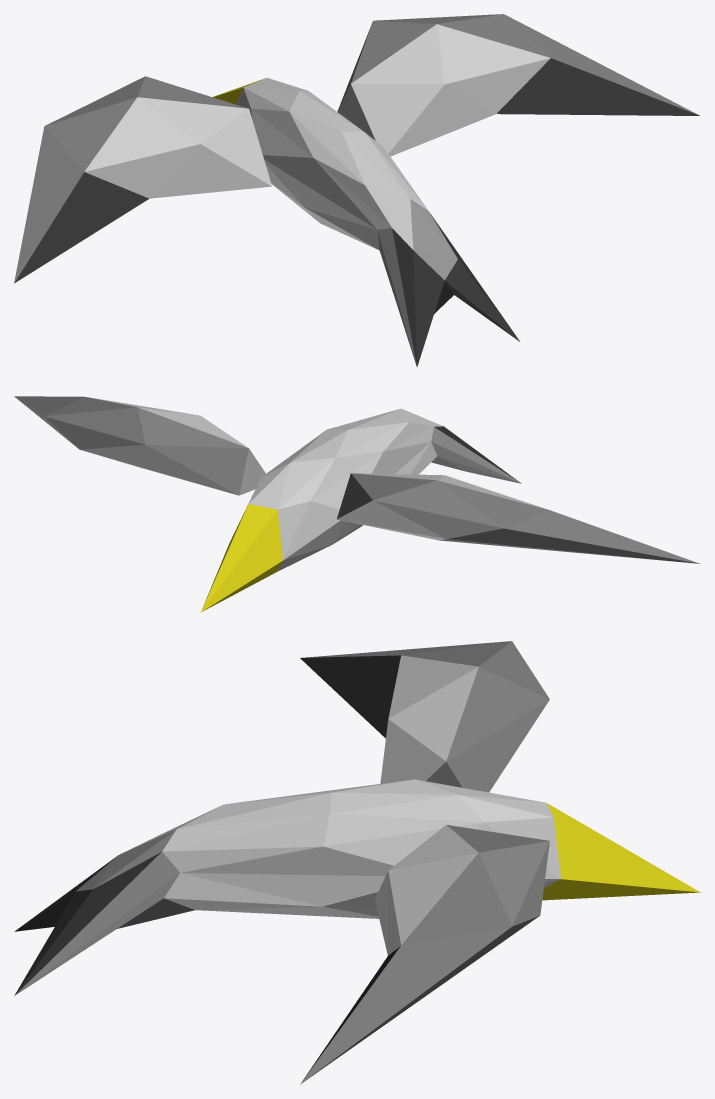
Rendered from chaika.fbx.
3 views of the same model, one above another, from view 1: azimuth 30°, elevation 25°; view 2: azimuth 150°, elevation 25°; view 3: azimuth 270°, elevation 25° (orthographic). The views are drawn at different scales.
Parts seen in each view (by area): view 1: Icosphere.001, Icosphere, Cube; view 2: Cube, Icosphere, Icosphere.001; view 3: Cube, Icosphere.001, Icosphere.
Boxes of the visible parts, x1,y1,x2,y2 form: Icosphere.001: [337, 14, 699, 156]; Icosphere: [14, 76, 271, 283]; Cube: [212, 77, 519, 367]; Cube: [201, 408, 521, 612]; Icosphere: [336, 473, 700, 563]; Icosphere.001: [14, 396, 265, 495]; Cube: [14, 779, 700, 995]; Icosphere.001: [300, 824, 549, 1084]; Icosphere: [300, 641, 549, 792].
Size of the model in its own units: 1214 by 272 by 825.
